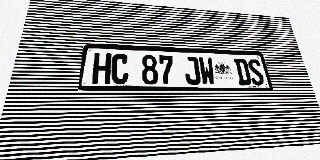7: (158, 55, 175, 85)
8: (142, 55, 158, 85)
C: (111, 54, 129, 84)
D: (233, 58, 252, 85)
H: (92, 53, 111, 84)
J: (183, 56, 201, 85)
S: (247, 59, 265, 85)
W: (198, 57, 216, 85)
